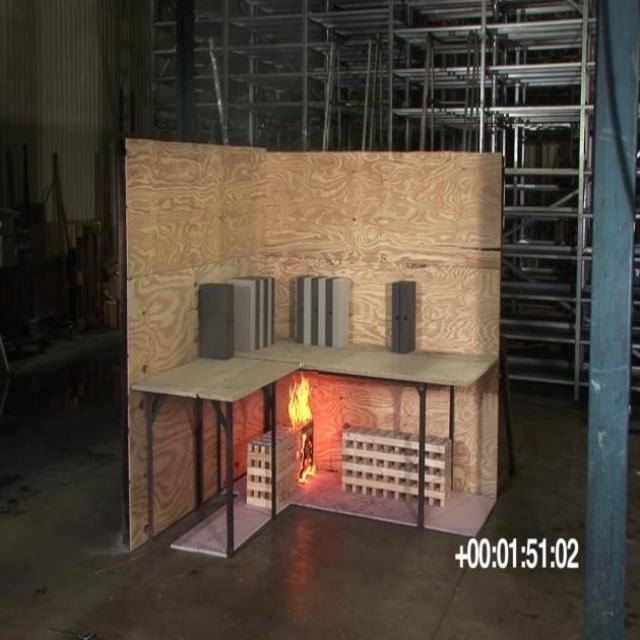smoke: (288, 369, 318, 488)
